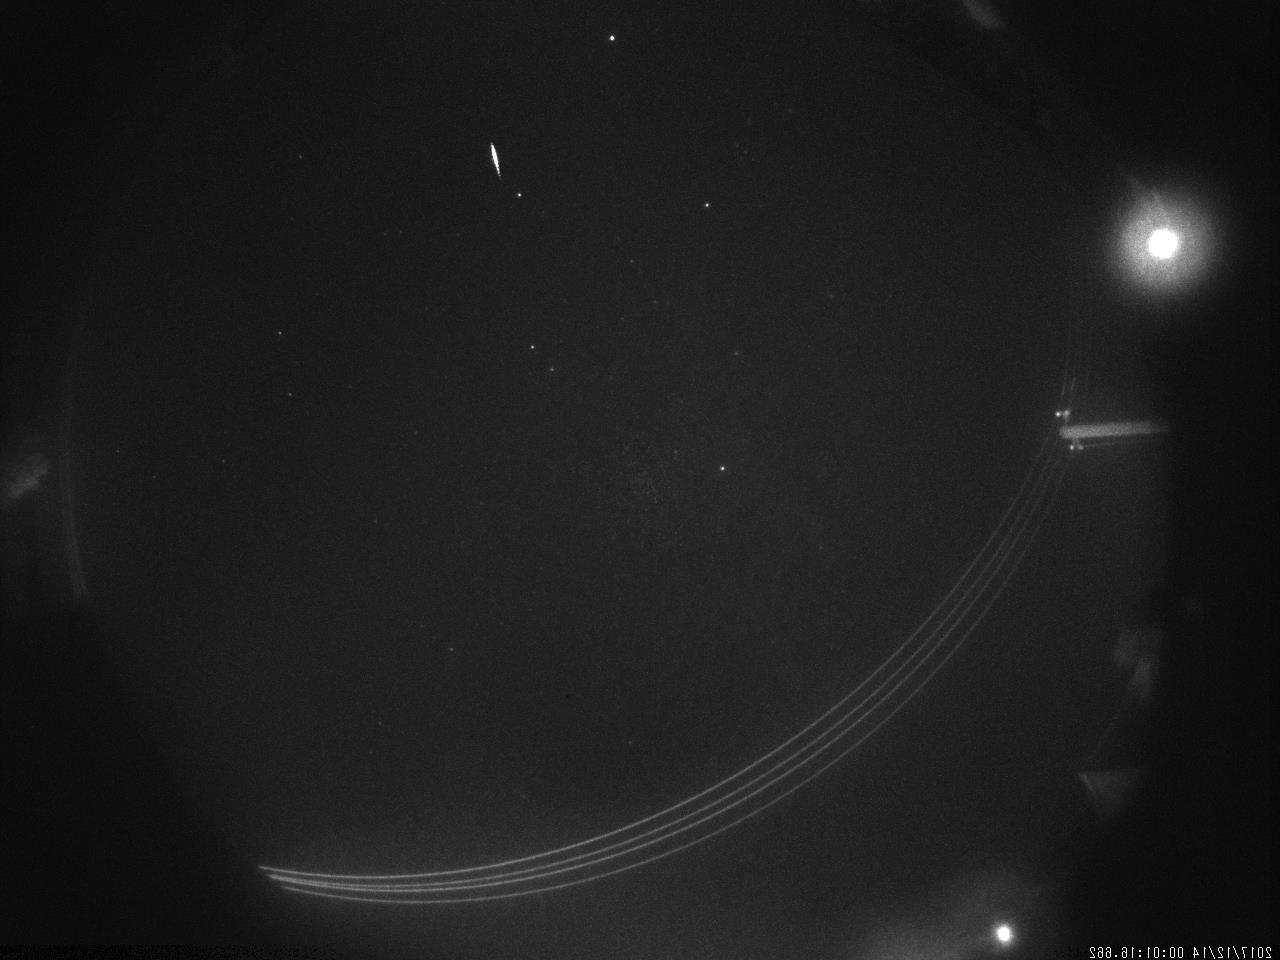meteor: (476, 127, 514, 194)
